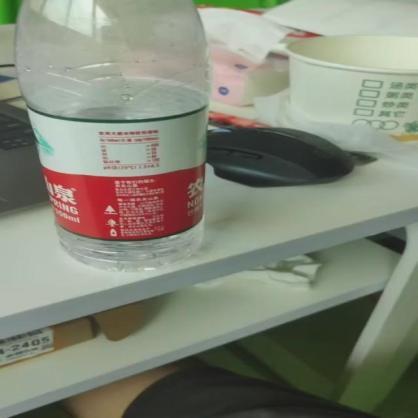bottle: (12, 3, 213, 272)
label: (22, 106, 228, 244)
